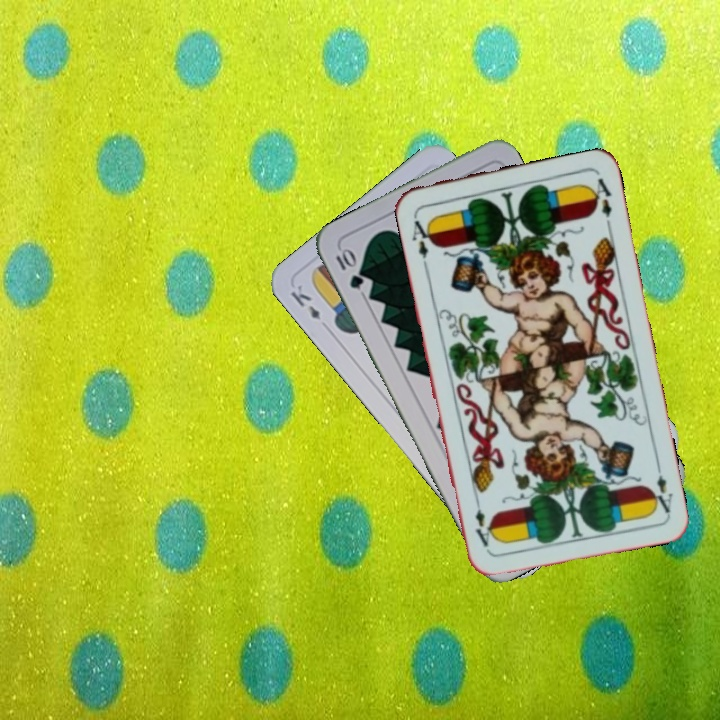EA: (647, 458, 676, 516), (407, 210, 436, 261)
EK: (286, 280, 323, 323)
G10: (331, 244, 366, 292)
